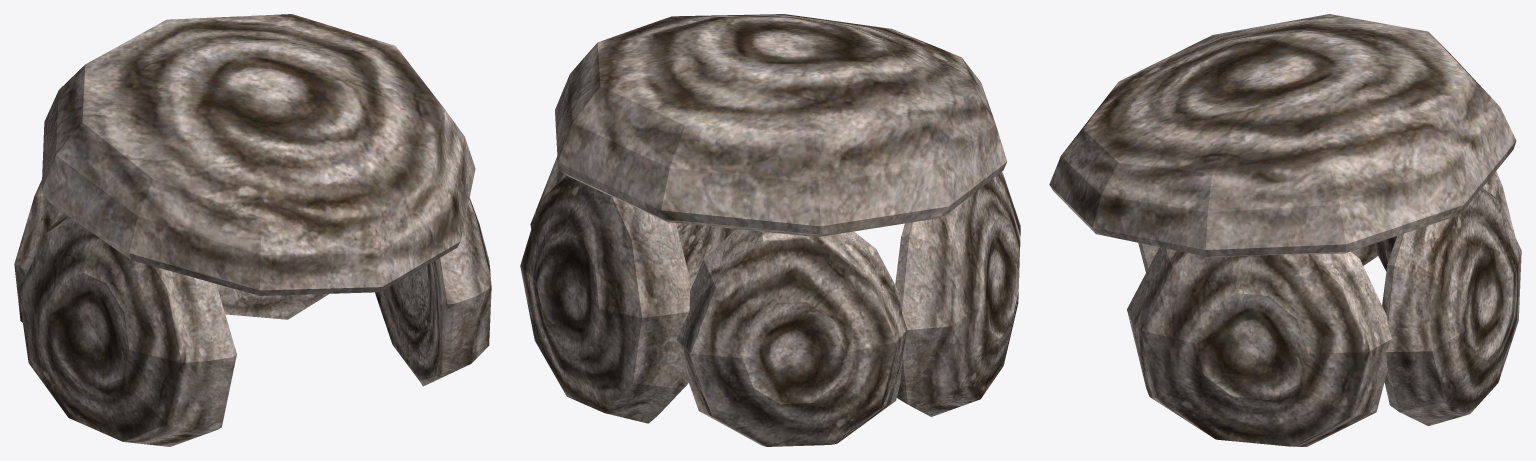
The model's file is thm_dath_mtn_clan_tent_house_s01_l1.fbx.
3 renders of one model, left to right at view 1: azimuth 30°, elevation 25°; view 2: azimuth 150°, elevation 25°; view 3: azimuth 270°, elevation 25°, orthographic. The views are drawn at different scales.
Visible parts, largest first — view 1: mesh_node; view 2: mesh_node; view 3: mesh_node.
Boxes of the visible parts, x1,y1,x2,y2 form: mesh_node: [14, 14, 491, 446]; mesh_node: [520, 14, 1020, 446]; mesh_node: [1049, 14, 1521, 446].
Bounding box in the file's own units: 11.58 × 8.73 × 11.88.
2 materials, 2 textured.
